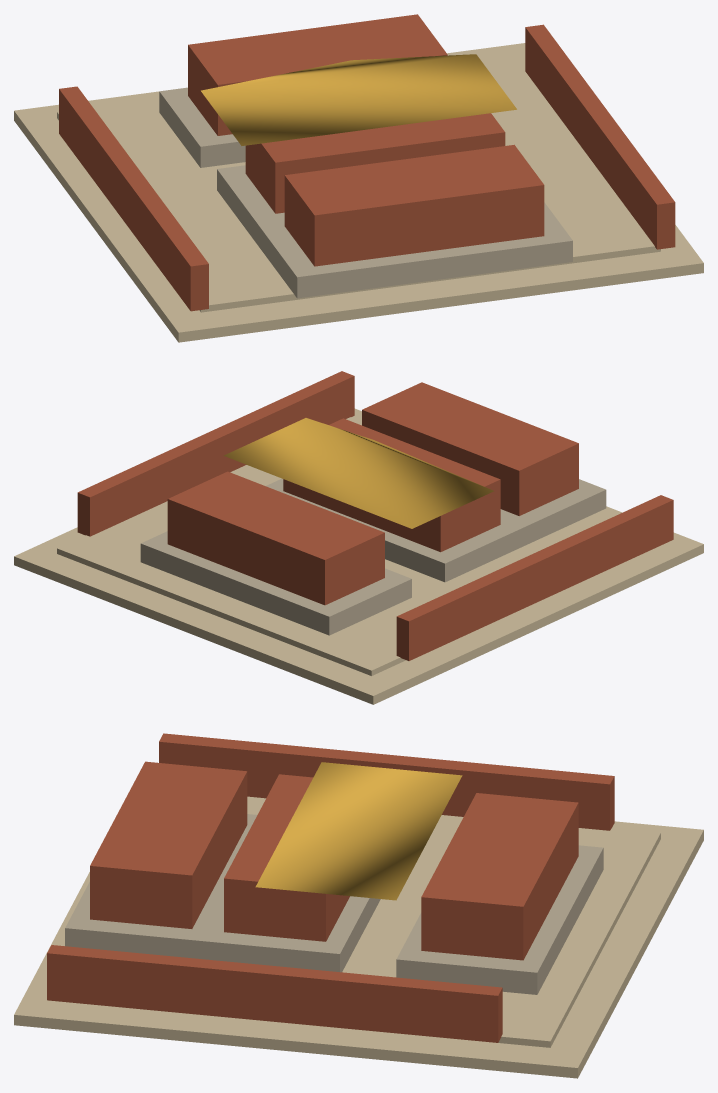
File: model-medium.glb
3 renders of one model, top to bottom at view 1: azimuth 30°, elevation 25°; view 2: azimuth 150°, elevation 25°; view 3: azimuth 270°, elevation 25°, orthographic. The views are drawn at different scales.
Parts seen in each view (by area): view 1: palace_hall_body (×3), palace_courtyard_paving, context_site_plinth, palace_side_wall (×2), palace_yellow_roof, palace_marble_base (×3); view 2: palace_hall_body (×3), palace_side_wall (×2), context_site_plinth, palace_courtyard_paving, palace_marble_base (×3), palace_yellow_roof; view 3: palace_hall_body (×3), palace_side_wall (×2), context_site_plinth, palace_marble_base (×3), palace_yellow_roof, palace_courtyard_paving.
Part boxes in pixels (x1=…): palace_hall_body (×3): x1=188, y1=14, x2=544, y2=266; palace_courtyard_paving: x1=57, y1=51, x2=660, y2=312; context_site_plinth: x1=14, y1=43, x2=703, y2=342; palace_side_wall (×2): x1=59, y1=24, x2=675, y2=311; palace_yellow_roof: x1=201, y1=54, x2=516, y2=145; palace_marble_base (×3): x1=159, y1=87, x2=572, y2=298; palace_hall_body (×3): x1=167, y1=382, x2=578, y2=605; palace_side_wall (×2): x1=77, y1=371, x2=673, y2=660; context_site_plinth: x1=14, y1=408, x2=703, y2=704; palace_courtyard_paving: x1=57, y1=417, x2=609, y2=675; palace_marble_base (×3): x1=140, y1=478, x2=606, y2=635; palace_yellow_roof: x1=223, y1=418, x2=494, y2=528; palace_hall_body (×3): x1=90, y1=761, x2=578, y2=960; palace_side_wall (×2): x1=47, y1=733, x2=614, y2=1042; context_site_plinth: x1=14, y1=821, x2=703, y2=1078; palace_marble_base (×3): x1=65, y1=814, x2=603, y2=994; palace_yellow_roof: x1=255, y1=762, x2=462, y2=900; palace_courtyard_paving: x1=247, y1=796, x2=660, y2=1047.
Size of the model in its own units: 9.55 by 2.03 by 9.55.
